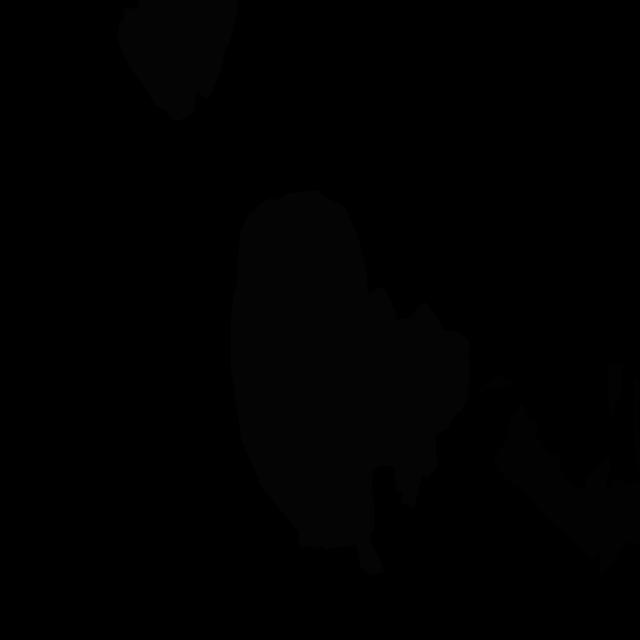cardboard: (494, 403, 588, 549), (578, 453, 640, 581), (606, 357, 622, 417), (476, 374, 516, 393), (634, 377, 640, 483)
soft_plastic: (230, 190, 414, 576), (341, 301, 470, 486), (116, 0, 238, 121), (394, 470, 422, 509)
